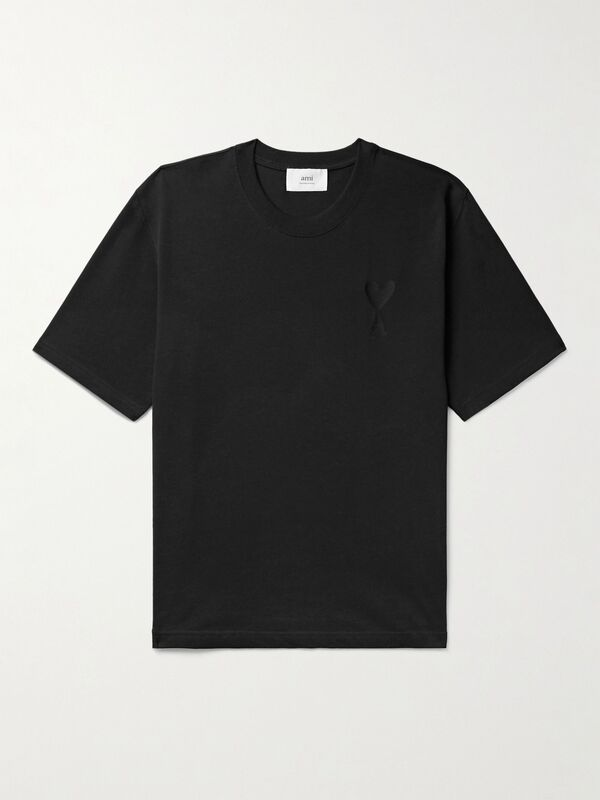tshirt: (28, 130, 571, 657)
